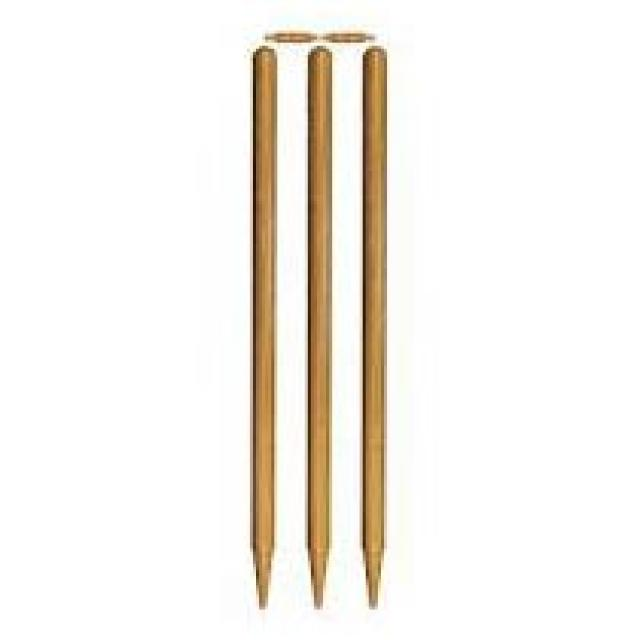stump: (247, 27, 382, 609)
